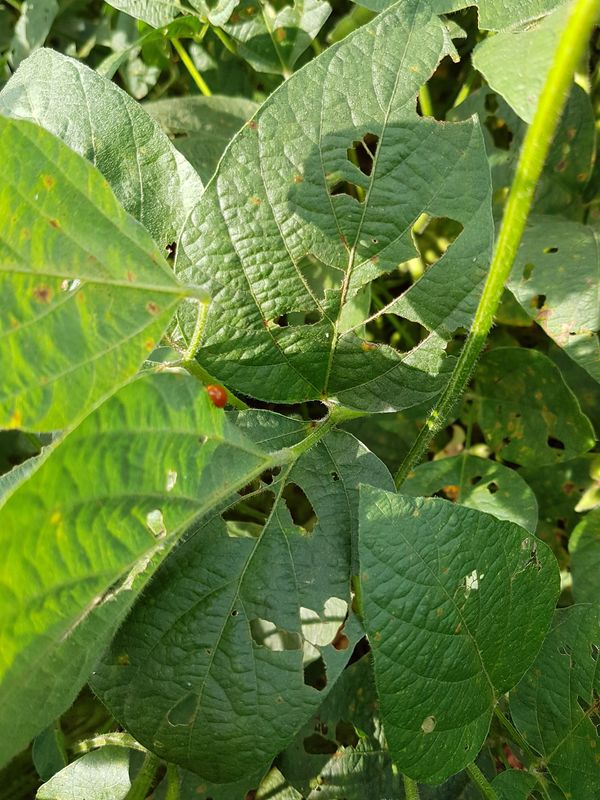Coccinellidae: (201, 378, 231, 411)
